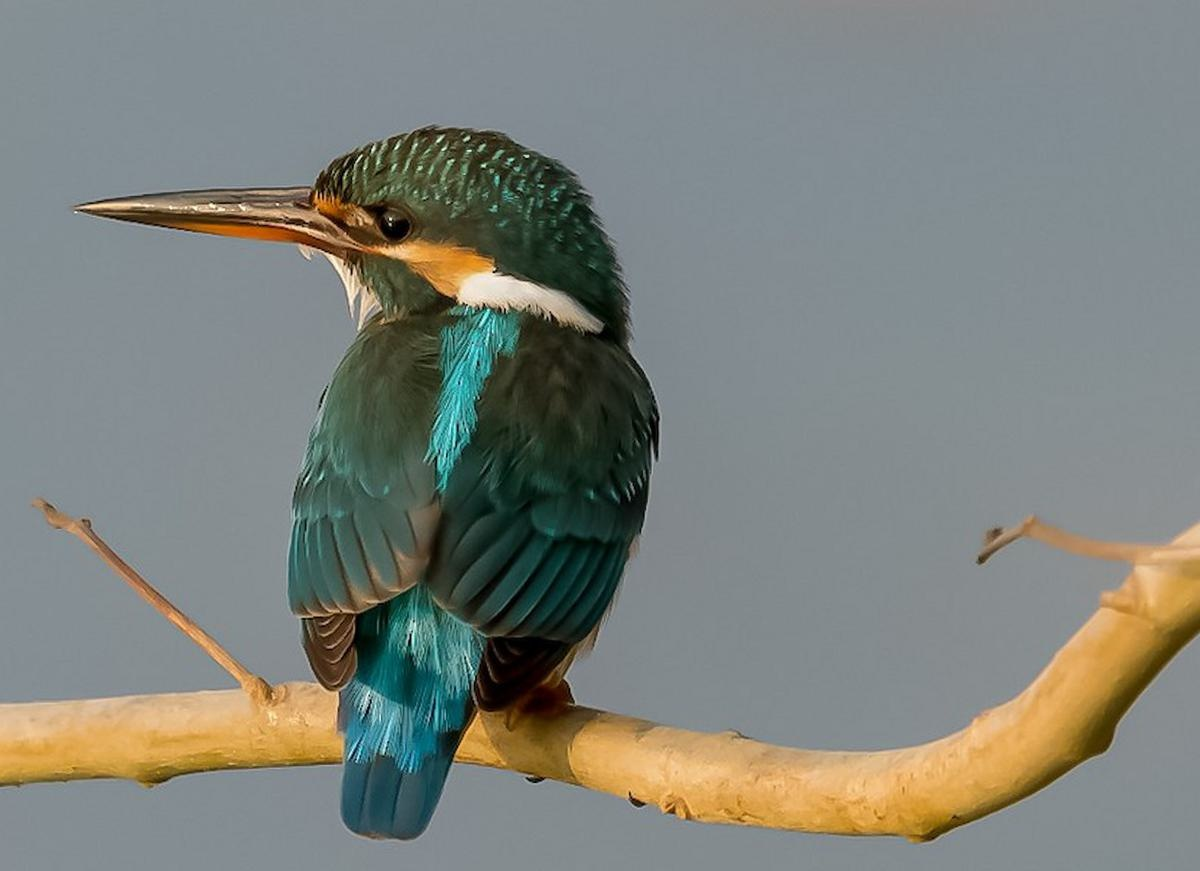kingfisher: (85, 126, 651, 797)
